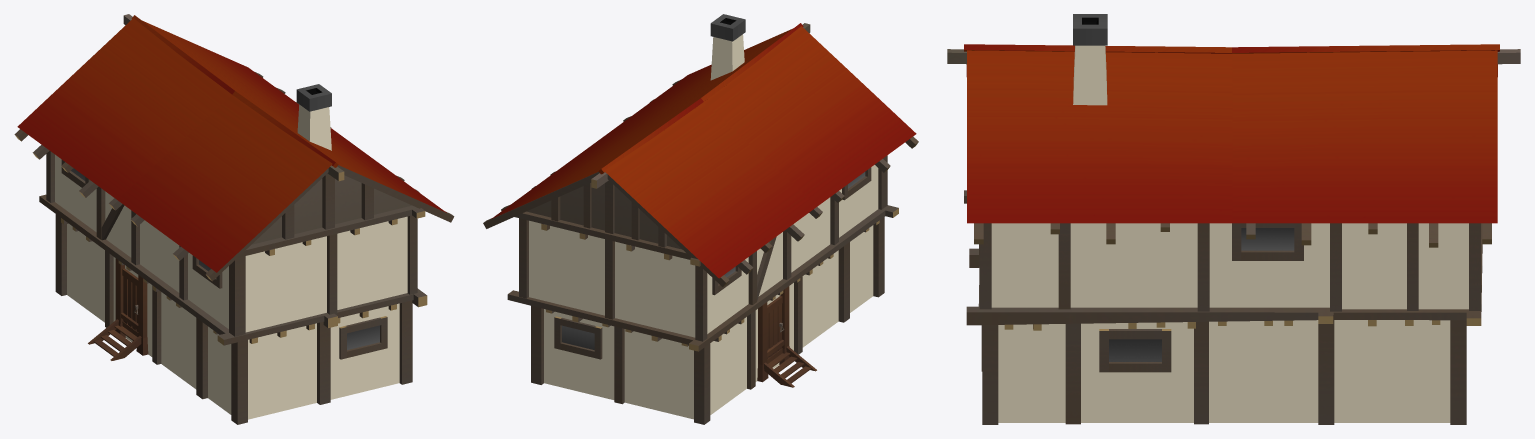
File: House_16_LOD1.fbx
3 renders of one model, left to right at view 1: azimuth 30°, elevation 25°; view 2: azimuth 150°, elevation 25°; view 3: azimuth 270°, elevation 25°, orthographic. The views are drawn at different scales.
Visible parts, largest first — view 1: polySurface9625; view 2: polySurface9625; view 3: polySurface9625.
Boxes of the visible parts, box(x1,y1,x2,y2) form: polySurface9625: box(14, 14, 454, 424); polySurface9625: box(483, 14, 918, 424); polySurface9625: box(947, 14, 1520, 424).
Size of the model in its own units: 924 by 959 by 1361.
